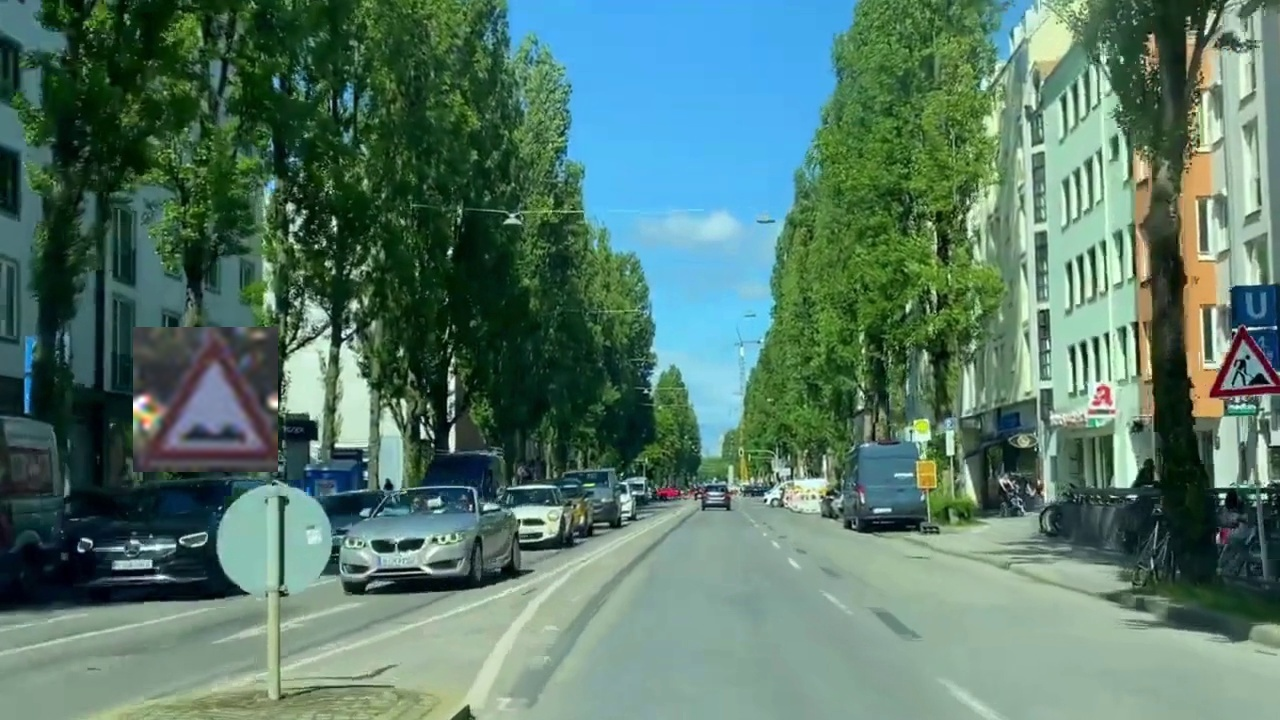Bumpy road: (133, 327, 278, 472)
